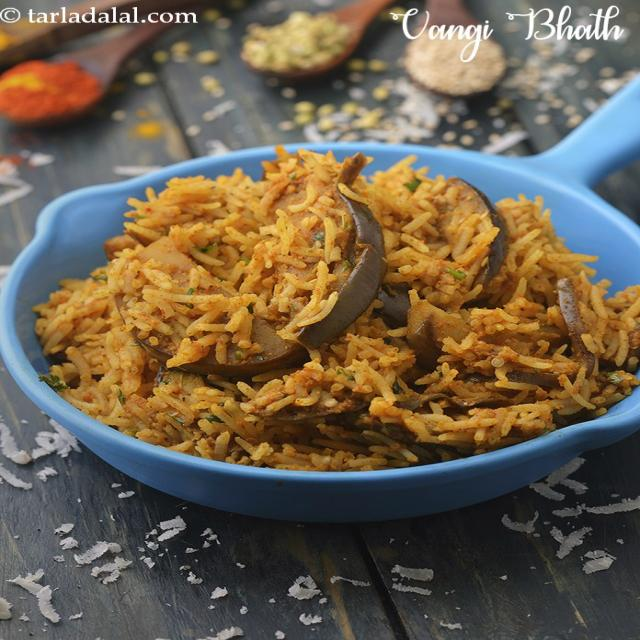vangi bath: (21, 129, 640, 491)
